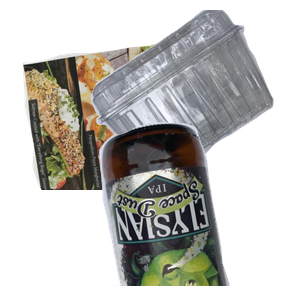glass: (97, 120, 300, 300)
paper: (20, 34, 221, 214)
plastic: (88, 10, 300, 180)
trash: (120, 131, 290, 300)
